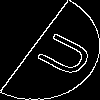U: (24, 25, 96, 81)
